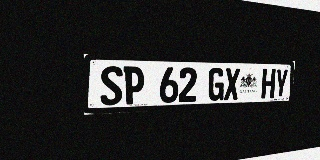2: (179, 67, 197, 102)
6: (160, 67, 179, 103)
G: (208, 68, 225, 101)
H: (261, 69, 276, 99)
P: (123, 66, 144, 105)
S: (100, 66, 123, 106)
X: (224, 68, 240, 100)
Y: (274, 69, 288, 98)
